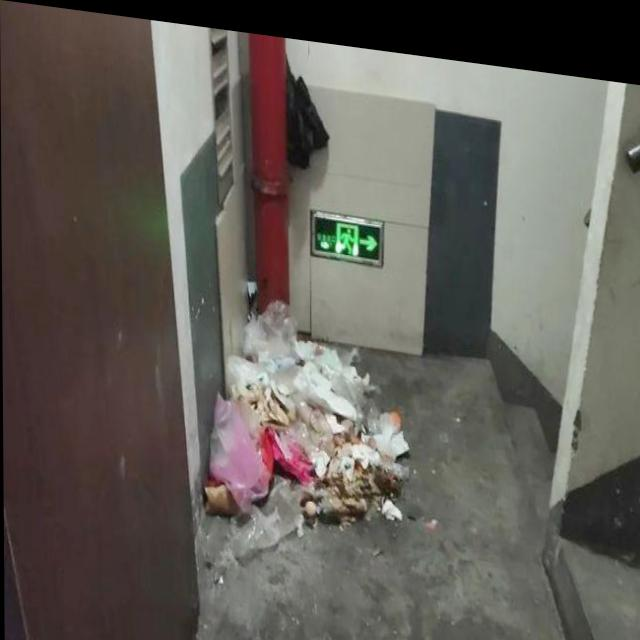garbage: (195, 263, 410, 571)
